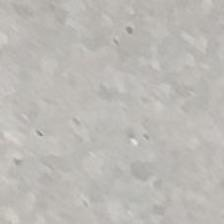Non_Crack: (8, 13, 224, 213)
